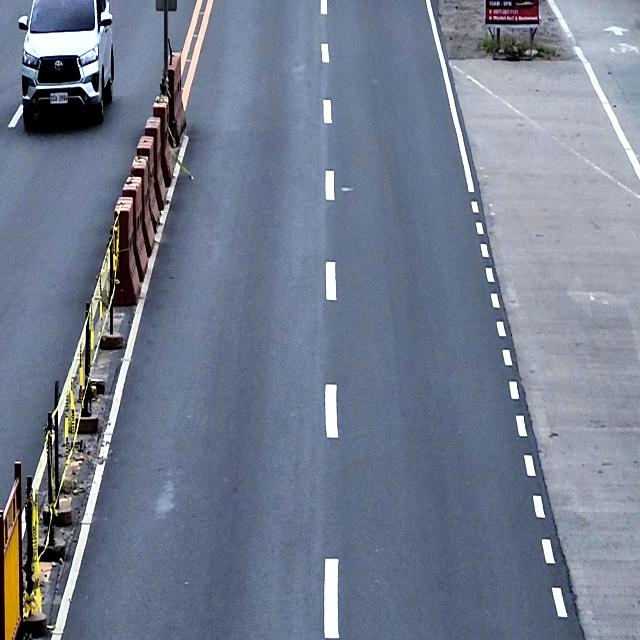Car: (15, 0, 117, 128)
License-Plate: (49, 93, 69, 105)
